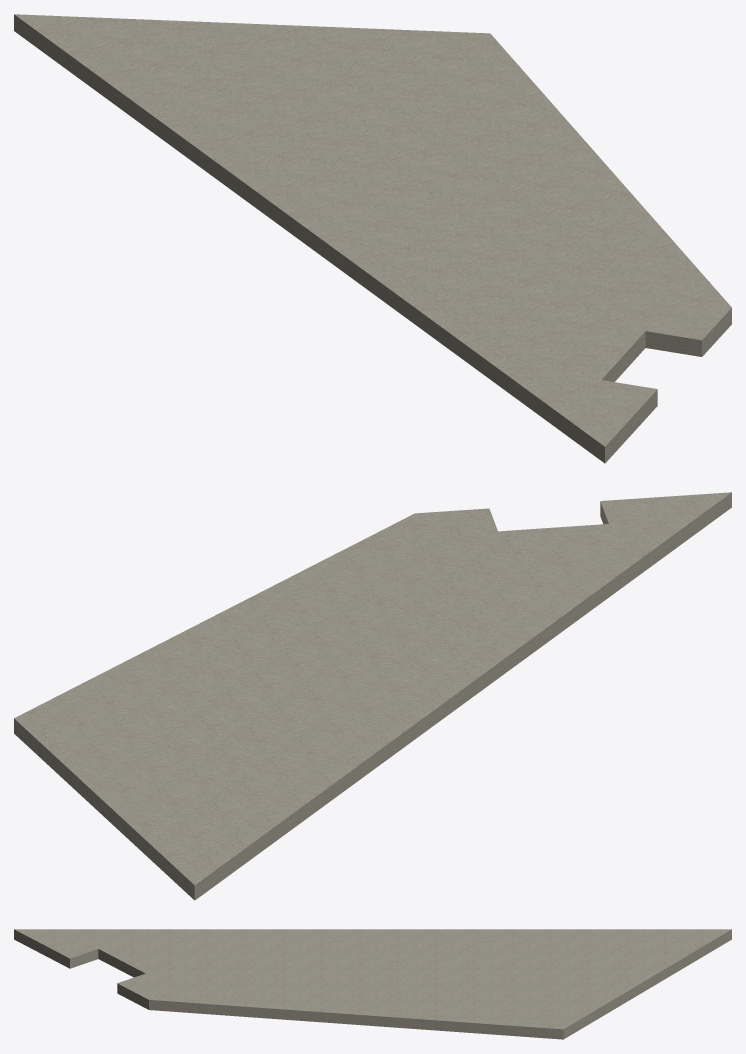
Rendered from floor test.FBX.
3 renders of one model, top to bottom at view 1: azimuth 30°, elevation 25°; view 2: azimuth 150°, elevation 25°; view 3: azimuth 270°, elevation 25°, orthographic. The views are drawn at different scales.
Parts seen in each view (by area): view 1: Floors <Floor : Generic - 12" High>006, Object335; view 2: Floors <Floor : Generic - 12" High>006, Object335; view 3: Floors <Floor : Generic - 12" High>006, Object335.
Part boxes in pixels (<box>): Floors <Floor : Generic - 12" High>006: <box>14,14,731,463</box>; Object335: <box>452,83,683,265</box>; Floors <Floor : Generic - 12" High>006: <box>14,492,731,900</box>; Object335: <box>87,554,395,702</box>; Floors <Floor : Generic - 12" High>006: <box>14,929,731,1039</box>; Object335: <box>231,984,497,1034</box>.
Bounding box in the file's own units: 405 × 19.21 × 1228.
1 material, 1 textured.
